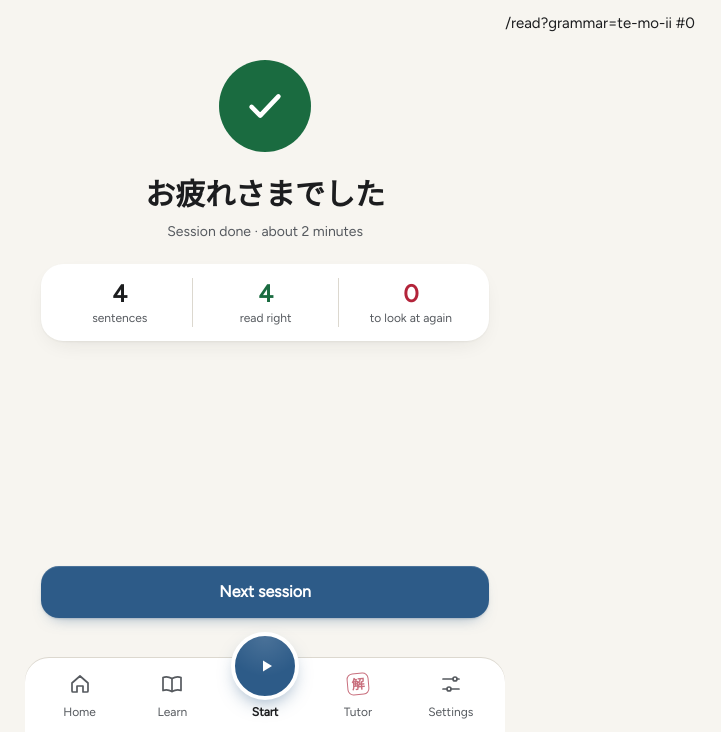
Test: SessionEnd › plays the same request again as a new round with Next session
The image size is (721, 732).
expect the list named "Counts" is shown: met, box [41,264,489,341]
expect the text named "where" reads "/read?grammar=te-mo-ii #0": met, box [505,14,695,32]
Click the button "Next session": [265, 592] box [41,566,489,618]
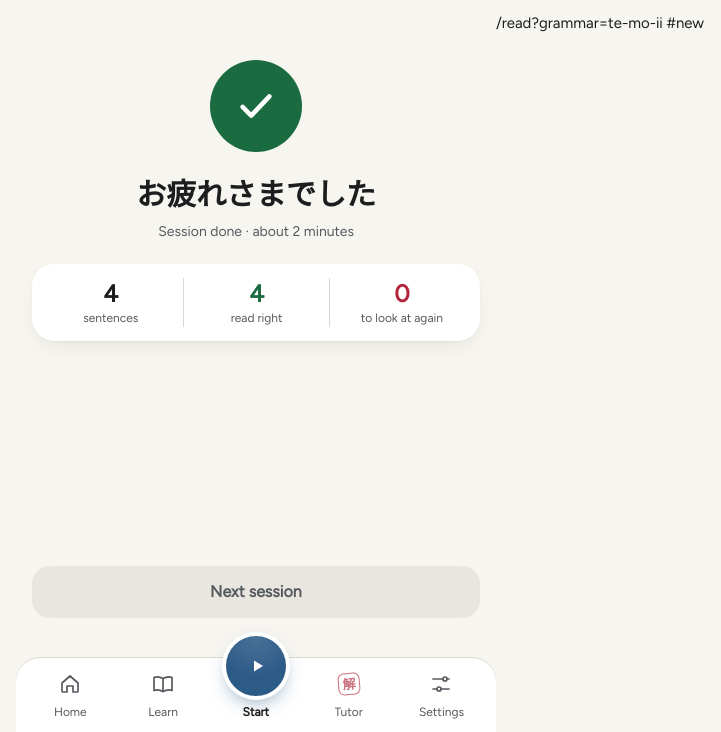
expect the text "/read?grammar=te-mo-ii #new" is shown: met, box [496,14,704,32]
